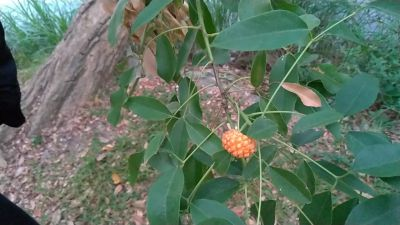eggs: (219, 125, 253, 159)
